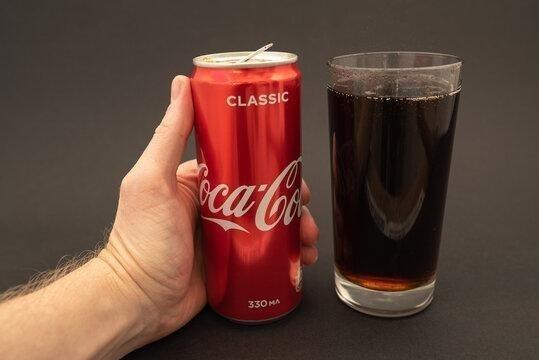glass-normal: (324, 49, 465, 316)
tin can: (189, 47, 305, 325)
